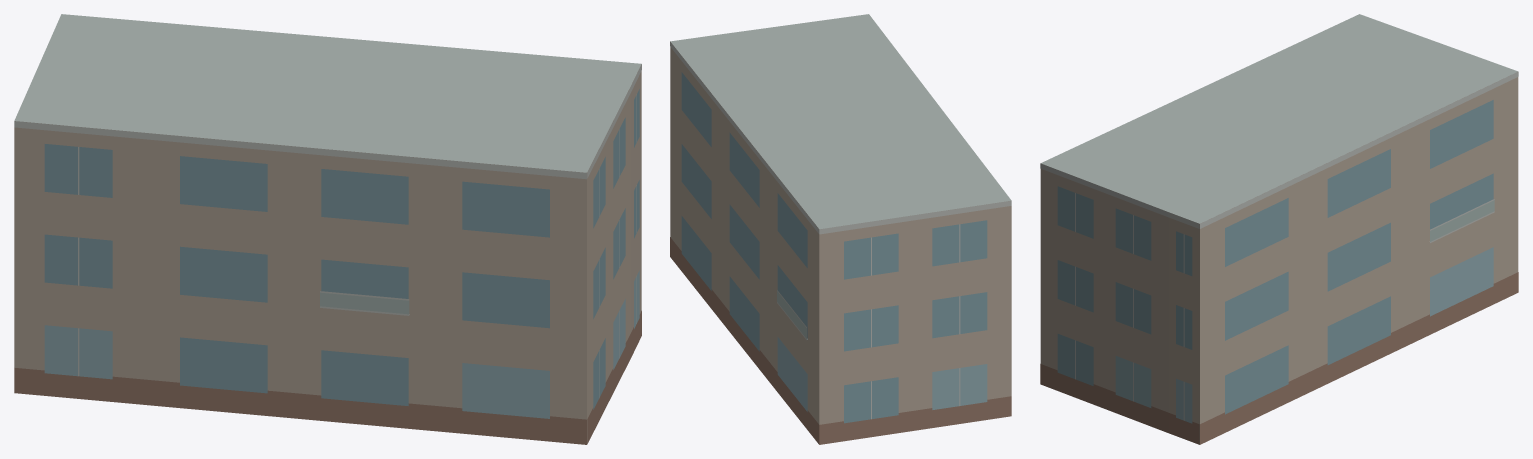
Rendered from survey-upis-32935889.glb.
3 views of the same model, side by side, from view 1: azimuth 30°, elevation 25°; view 2: azimuth 150°, elevation 25°; view 3: azimuth 270°, elevation 25° (orthographic). The views are drawn at different scales.
Parts seen in each view (by area): view 1: survey-upis-32935889.tmp; view 2: survey-upis-32935889.tmp; view 3: survey-upis-32935889.tmp.
Boxes of the visible parts, x1,y1,x2,y2 form: survey-upis-32935889.tmp: (14, 14, 641, 444); survey-upis-32935889.tmp: (670, 14, 1011, 444); survey-upis-32935889.tmp: (1040, 14, 1518, 444).
Bounding box in the file's own units: 20.77 × 10.2 × 19.99.
